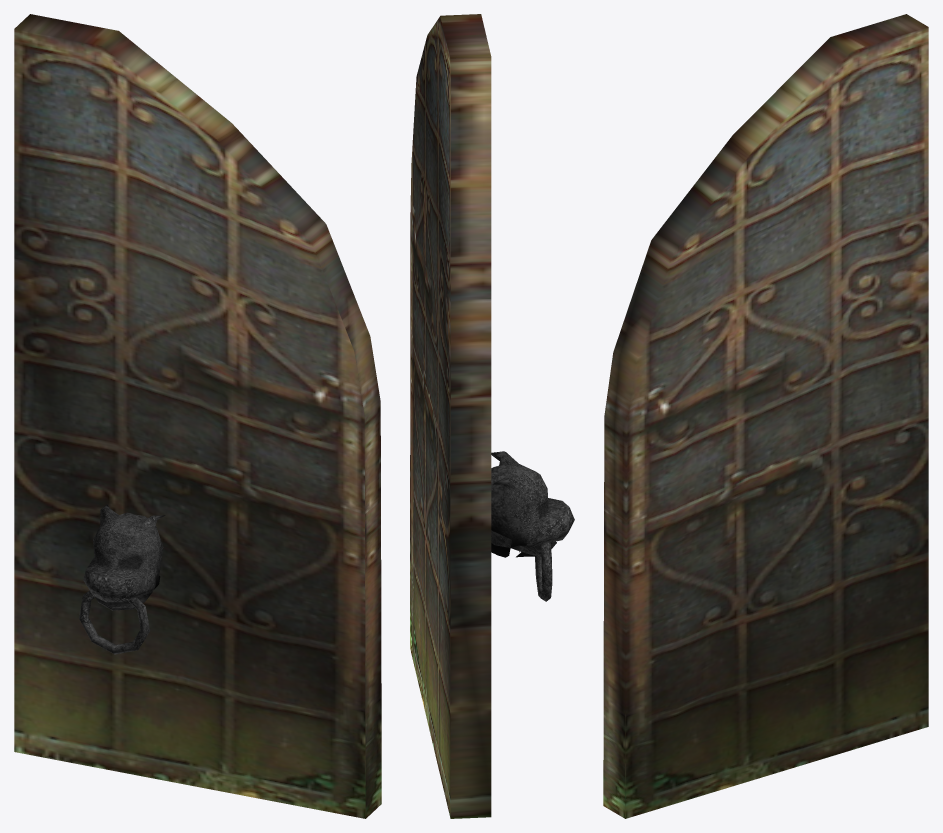
File: RightDoorOpen.glb
3 renders of one model, left to right at view 1: azimuth 30°, elevation 25°; view 2: azimuth 150°, elevation 25°; view 3: azimuth 270°, elevation 25°, orthographic. The views are drawn at different scales.
Parts seen in each view (by area): view 1: metaldoor.jpg__, nolok_ao.jpg__; view 2: metaldoor.jpg__, nolok_ao.jpg__; view 3: metaldoor.jpg__.
Boxes of the visible parts, left/top/right/bottom form: metaldoor.jpg__: left=14, top=14, right=381, bottom=818; nolok_ao.jpg__: left=79, top=504, right=165, bottom=654; metaldoor.jpg__: left=410, top=14, right=491, bottom=818; nolok_ao.jpg__: left=491, top=451, right=574, bottom=601; metaldoor.jpg__: left=603, top=14, right=928, bottom=818.
Size of the model in its own units: 7.31 by 22.69 by 9.55.
2 materials, 2 textured.
